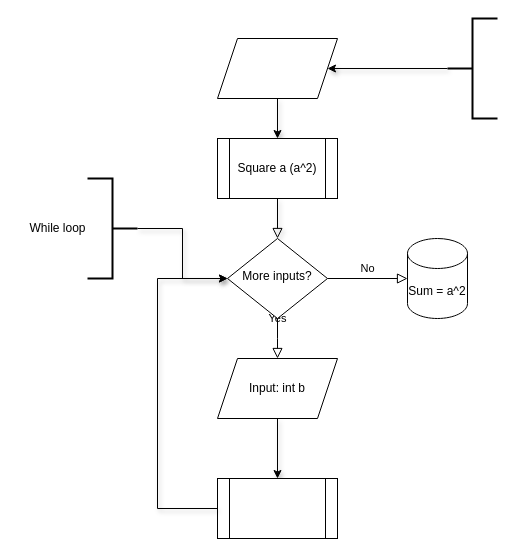
Some shapes in this 515 by 556 pixel diagram are drawn without their labels. Each missing label, with the centre of its shape:
"Input: int a" belongs at point 277,68.
"Square b (b^2)" belongs at point 277,508.
